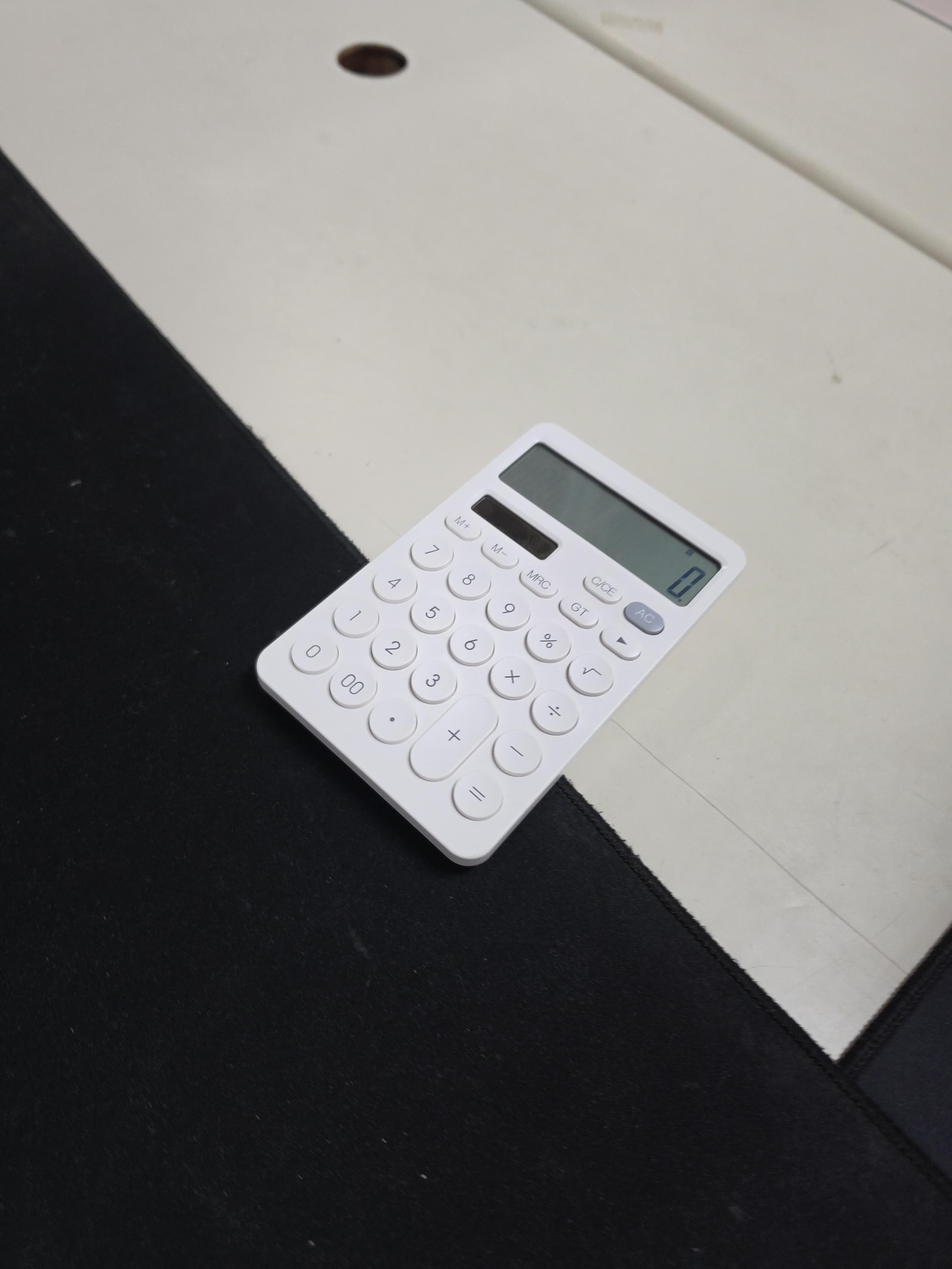calculator: (254, 423, 746, 866)
